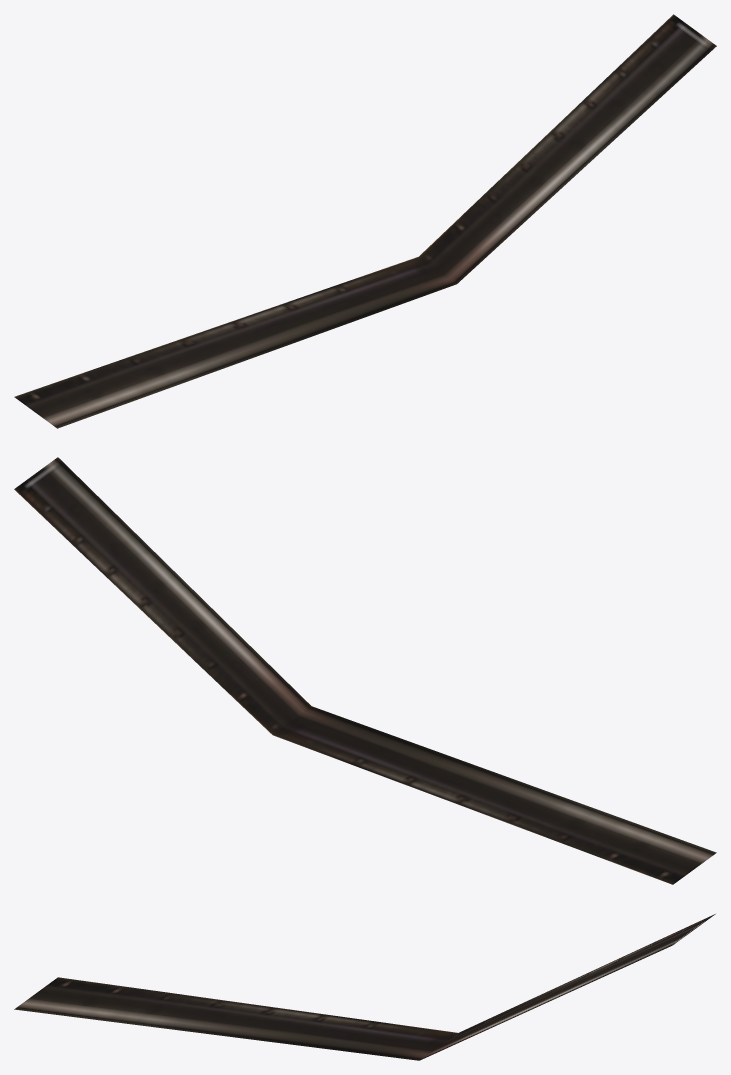
The picture shows the model from 3 angles, top to bottom: view 1: azimuth 30°, elevation 25°; view 2: azimuth 150°, elevation 25°; view 3: azimuth 330°, elevation 25°; orthographic projection.
Visible parts, largest first — view 1: Plane06; view 2: Plane06; view 3: Plane06.
Boxes of the visible parts, x1,y1,x2,y2 form: Plane06: (14, 14, 716, 428); Plane06: (14, 457, 716, 884); Plane06: (14, 914, 715, 1060).
Bounding box in the file's own units: 462 × 153 × 59.25.
1 material, 1 textured.
